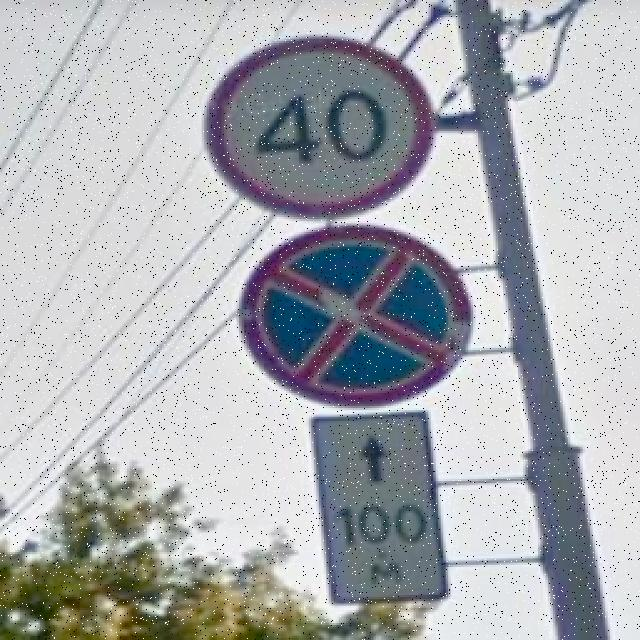Ograniczenie predkosci do 40: (204, 35, 438, 218)
Zakaz zatrzymywania sie: (240, 222, 476, 406)
